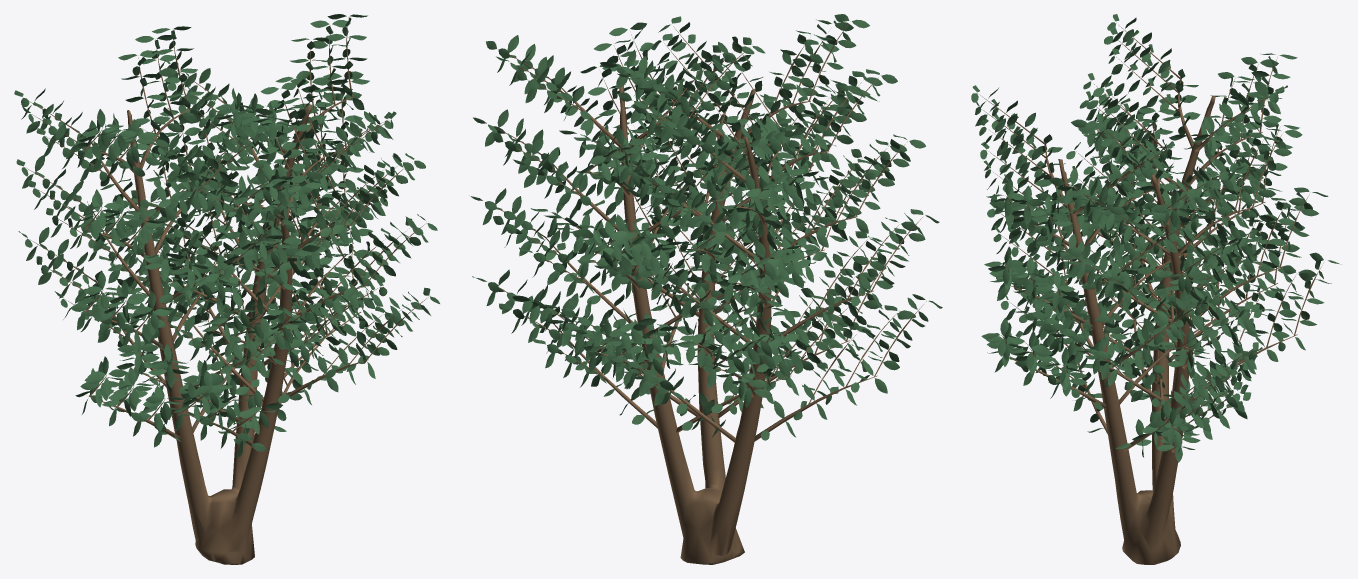
The model's file is Myrte_0_Niveau0.fbx.
The picture shows the model from 3 angles, left to right: view 1: azimuth 30°, elevation 25°; view 2: azimuth 150°, elevation 25°; view 3: azimuth 270°, elevation 25°; orthographic projection. The views are drawn at different scales.
Parts seen in each view (by area): view 1: Myrte_0_Niveau0_Jeu; view 2: Myrte_0_Niveau0_Jeu; view 3: Myrte_0_Niveau0_Jeu.
Part boxes in pixels (x1,y1,x2,y2): Myrte_0_Niveau0_Jeu: (14, 14, 439, 564); Myrte_0_Niveau0_Jeu: (469, 14, 942, 564); Myrte_0_Niveau0_Jeu: (971, 14, 1340, 564).
Size of the model in its own units: 93.15 by 119 by 84.55.
